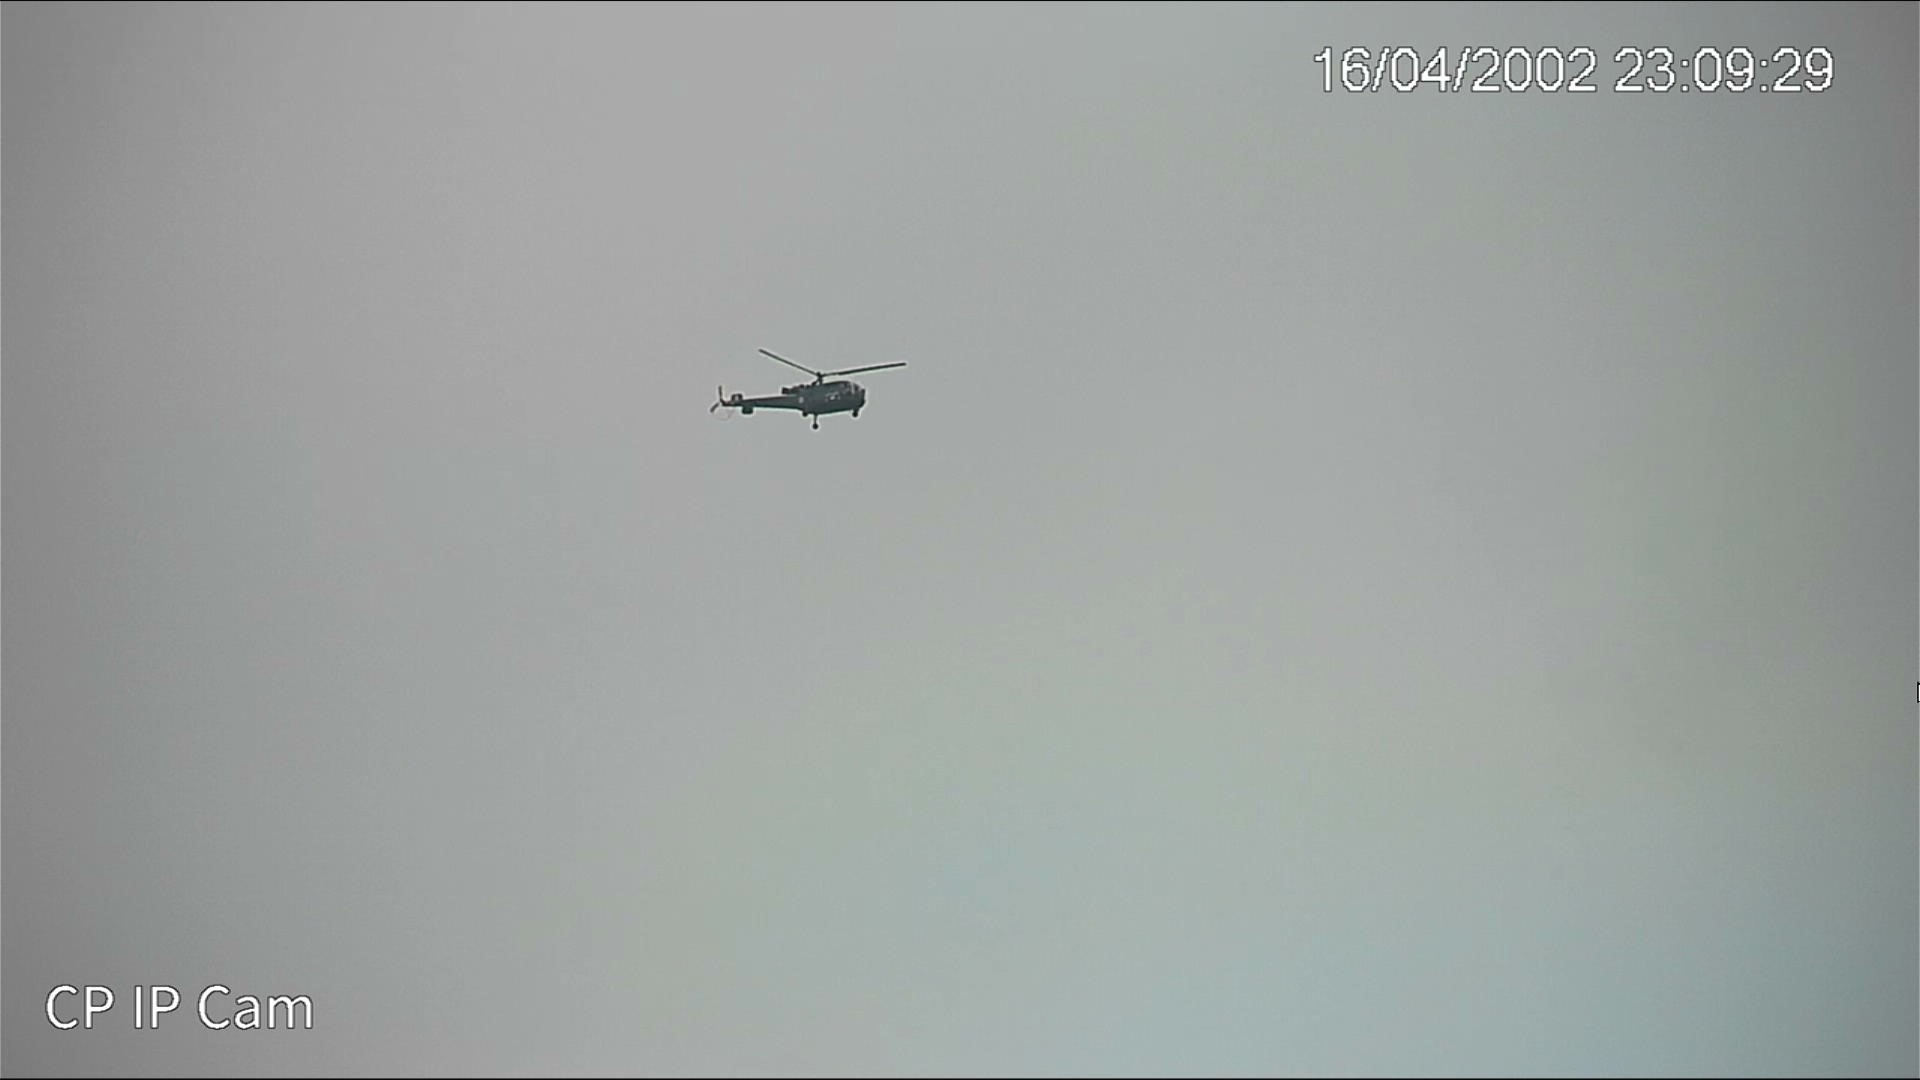SU_30: (711, 368, 890, 426)
